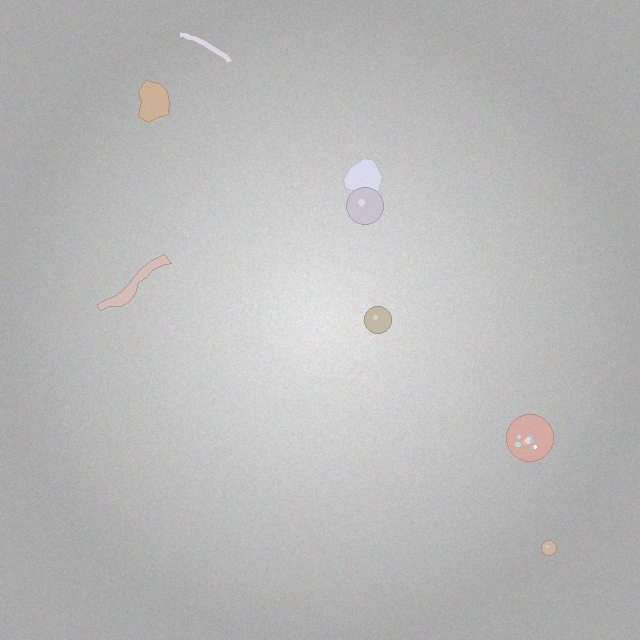fiber: (223, 272, 306, 314), (175, 28, 236, 67)
film: (97, 255, 171, 311)
foam: (506, 414, 553, 461)
fragment: (138, 80, 170, 122), (344, 159, 383, 191)
pellet: (346, 187, 384, 225), (365, 307, 392, 334), (542, 540, 557, 556)
